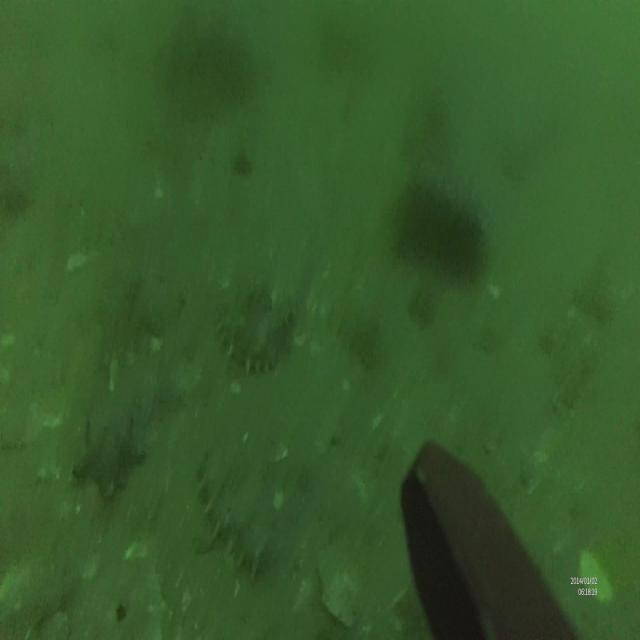echinus: (398, 184, 452, 258), (436, 202, 482, 284)
holothurian: (193, 467, 261, 572), (210, 284, 290, 367)
starfish: (72, 411, 140, 492)
